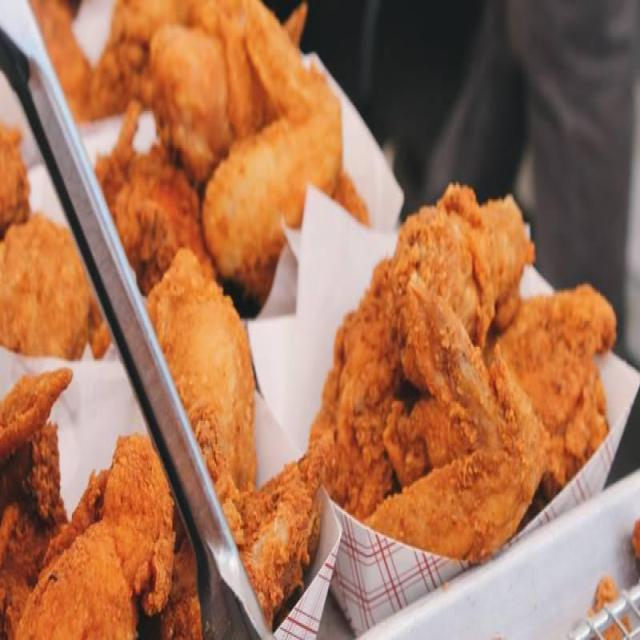Chicken -Fried Chicken-: (146, 184, 617, 624), (24, 0, 369, 299), (0, 369, 203, 640)
